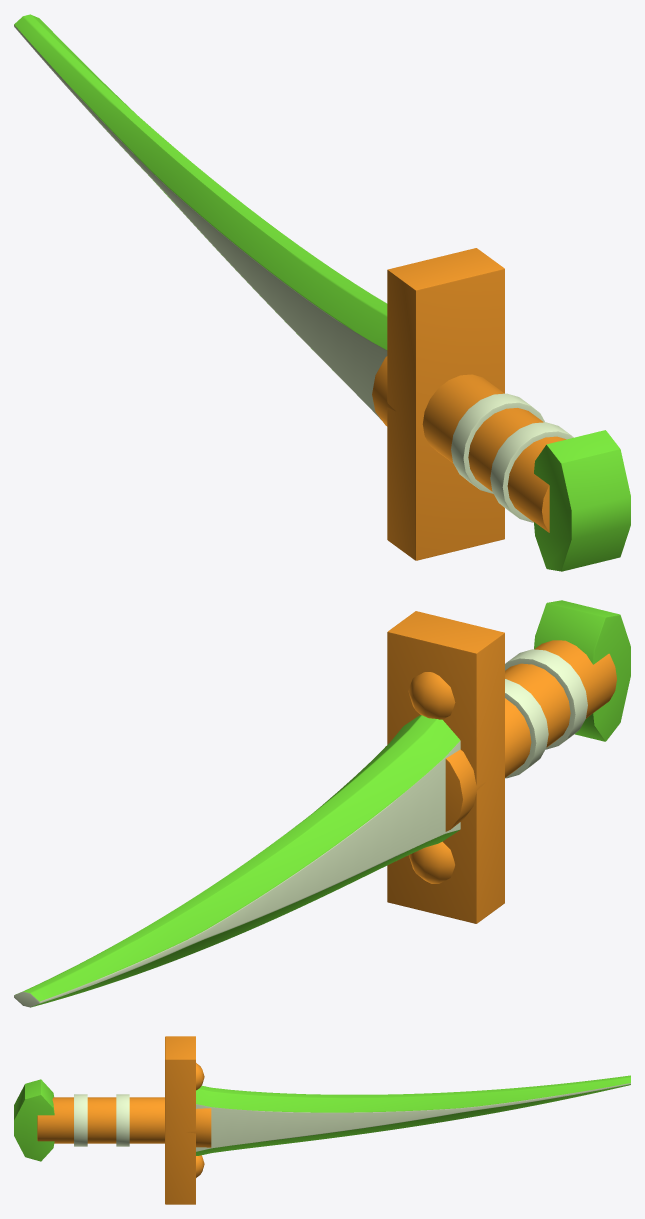
The model's file is Sword_ThornwoodDirk.glb.
The picture shows the model from 3 angles, top to bottom: view 1: azimuth 30°, elevation 25°; view 2: azimuth 150°, elevation 25°; view 3: azimuth 270°, elevation 25°; orthographic projection. The views are drawn at different scales.
Parts seen in each view (by area): view 1: Sword_ThornwoodDirk; view 2: Sword_ThornwoodDirk; view 3: Sword_ThornwoodDirk.
Boxes of the visible parts, x1,y1,x2,y2 form: Sword_ThornwoodDirk: [14, 14, 630, 571]; Sword_ThornwoodDirk: [14, 600, 630, 1007]; Sword_ThornwoodDirk: [14, 1036, 630, 1204].
Bounding box in the file's own units: 0.0919 × 0.26 × 1.
1 material, 1 textured.
